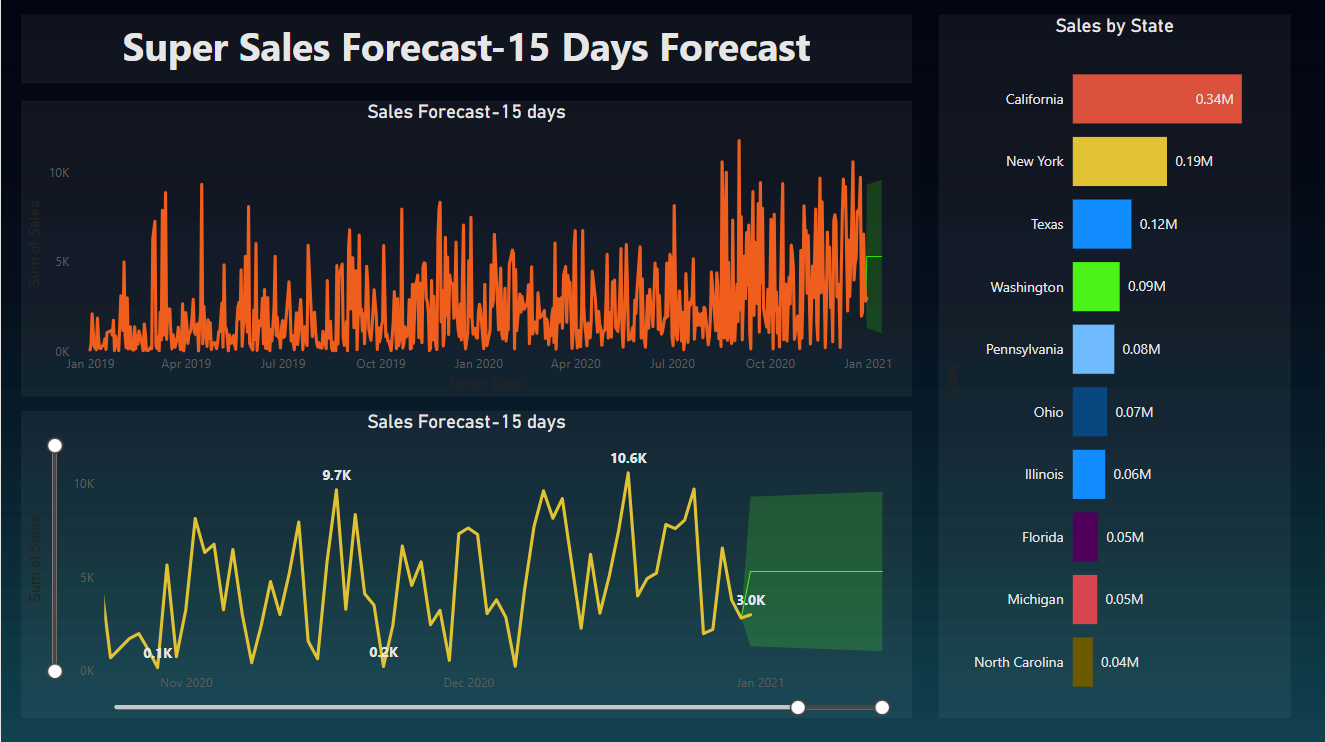

Layout of this report page (visuals, bound fields, positions):
{"tool":"powerbi","page":{"name":"Sales Forecast","canvas":[1280,720],"ordinal":1},"visuals":[{"type":"lineChart","title":"Sales Forecast-15 days","fields":{"Y":["Sum(SuperStore_Sales_Dataset.Sales)"],"Category":["SuperStore_Sales_Dataset.Order Date"]},"box":[19.3,100.1,859.9,285.8],"z":0},{"type":"lineChart","title":"Sales Forecast-15 days","fields":{"Y":["Sum(SuperStore_Sales_Dataset.Sales)"],"Category":["SuperStore_Sales_Dataset.Order Date"]},"box":[19.3,399.2,859.9,296.7],"z":1000},{"type":"barChart","title":" Sales by State","fields":{"Category":["SuperStore_Sales_Dataset.State"],"Y":["Sum(SuperStore_Sales_Dataset.Sales)"]},"box":[904.5,16.9,340.1,679],"z":2000},{"type":"textbox","box":[19.3,16.9,859.9,66.3],"z":3000}]}

Visuals, with their boxes in screenshot pixels (x1, y1, x2, y2), scaled from the page's 1280x720 canvas onto the 1325x742 screenshot:
"Sales Forecast-15 days" lineChart: [x1=20, y1=103, x2=910, y2=398]
"Sales Forecast-15 days" lineChart: [x1=20, y1=411, x2=910, y2=717]
" Sales by State" barChart: [x1=936, y1=17, x2=1288, y2=717]
textbox: [x1=20, y1=17, x2=910, y2=86]
